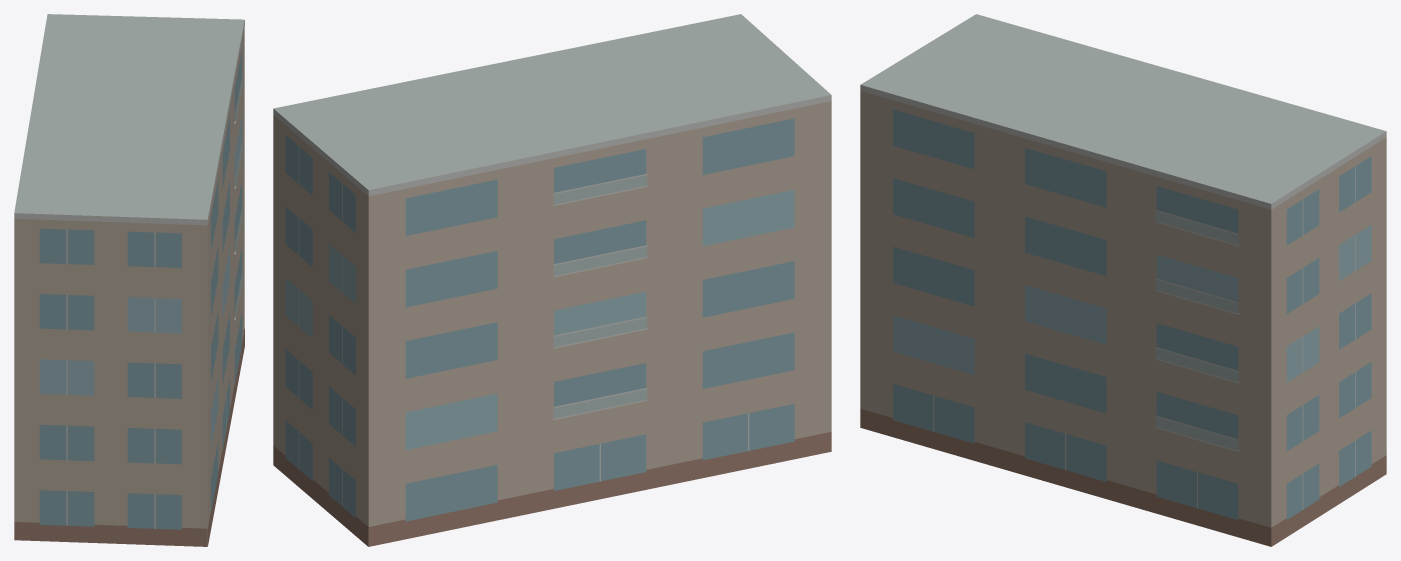
File: survey-upis-32798390.glb
The picture shows the model from 3 angles, left to right: view 1: azimuth 30°, elevation 25°; view 2: azimuth 150°, elevation 25°; view 3: azimuth 270°, elevation 25°; orthographic projection. The views are drawn at different scales.
Parts seen in each view (by area): view 1: survey-upis-32798390.tmp; view 2: survey-upis-32798390.tmp; view 3: survey-upis-32798390.tmp.
Part boxes in pixels (box(x1,y1,x2,y2)): survey-upis-32798390.tmp: box(14, 14, 244, 546); survey-upis-32798390.tmp: box(273, 14, 831, 546); survey-upis-32798390.tmp: box(860, 14, 1386, 546).
Bounding box in the file's own units: 16.88 × 14.2 × 19.76.
